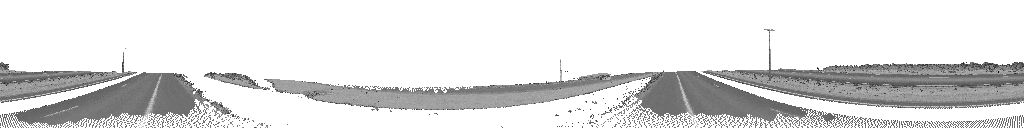light_pole: (763, 28, 775, 81), (121, 48, 125, 71)
